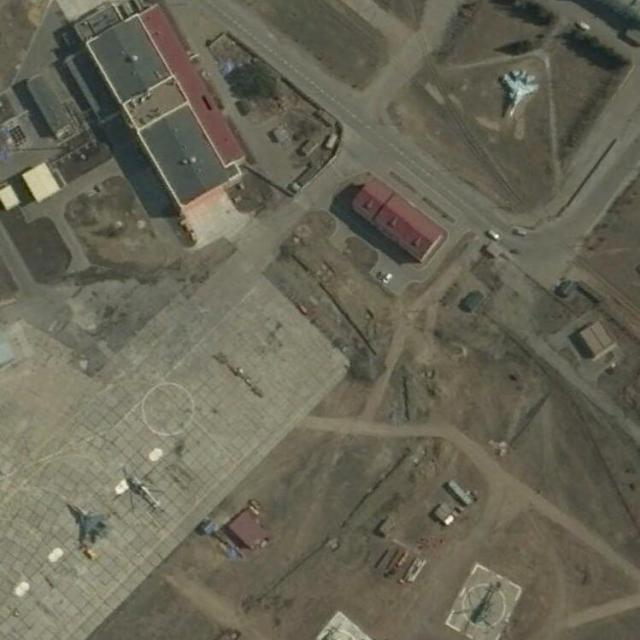fighter jet: (61, 498, 108, 544), (497, 65, 538, 116)
